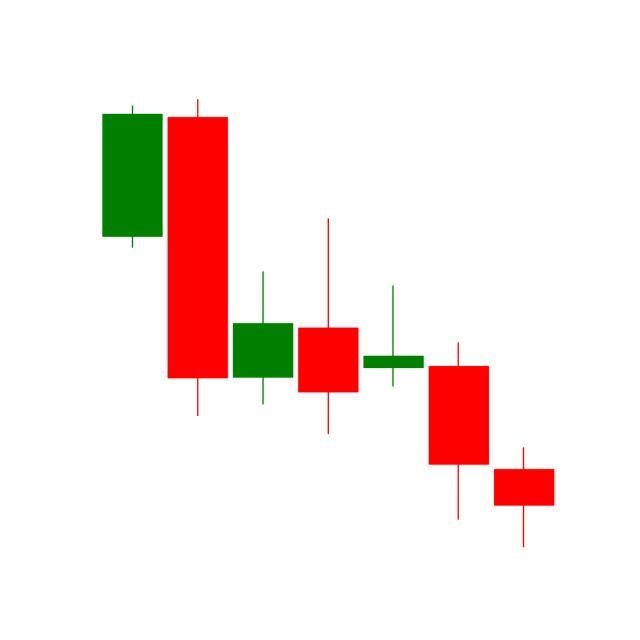Hikkake Pattern: (165, 100, 492, 526)
